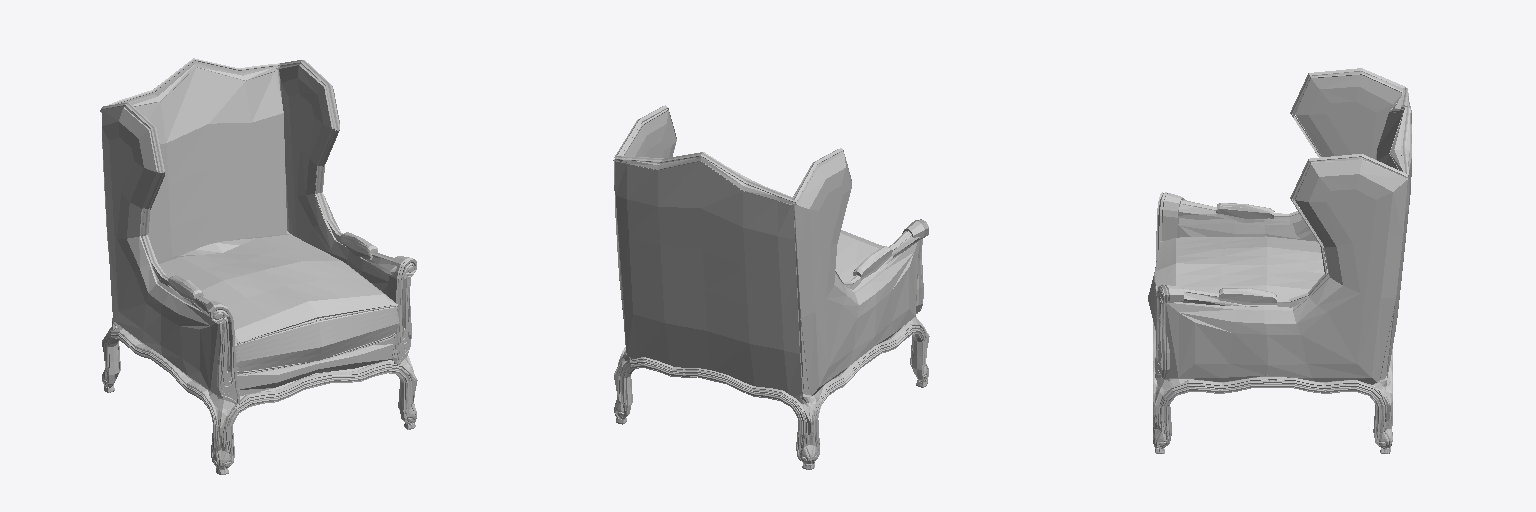
Rendered from Armchair_model (1).obj.
3 renders of one model, left to right at view 1: azimuth 30°, elevation 25°; view 2: azimuth 150°, elevation 25°; view 3: azimuth 270°, elevation 25°, orthographic.
Visible parts, largest first — view 1: podlokietnikiSkora_Plane.003, oparcieSkora_Plane, siedzenieSkora_Cube.004, Nogi_Mesh, wykonczenieDrewno_Plane.004, Drewniany_Ornament_Mesh.006, siedzisko_Cube.003, MalePodlokietniki_Plane.007, ZaslepkiDrewniane_Mesh.002; view 2: oparcieSkora_Plane, podlokietnikiSkora_Plane.003, Nogi_Mesh, wykonczenieDrewno_Plane.004, siedzenieSkora_Cube.004, ZaslepkiDrewniane_Mesh.002, Drewniany_Ornament_Mesh.006, MalePodlokietniki_Plane.007; view 3: podlokietnikiSkora_Plane.003, siedzenieSkora_Cube.004, Nogi_Mesh, wykonczenieDrewno_Plane.004, Drewniany_Ornament_Mesh.006, oparcieSkora_Plane, MalePodlokietniki_Plane.007, ZaslepkiDrewniane_Mesh.002.
Part boxes in pixels (x1,y1,x2,y2): podlokietnikiSkora_Plane.003: (101, 64, 388, 398); oparcieSkora_Plane: (128, 63, 286, 261); siedzenieSkora_Cube.004: (158, 231, 399, 375); Nogi_Mesh: (102, 327, 416, 474); wykonczenieDrewno_Plane.004: (100, 58, 396, 316); Drewniany_Ornament_Mesh.006: (206, 256, 416, 404); siedzisko_Cube.003: (237, 338, 393, 399); MalePodlokietniki_Plane.007: (168, 232, 377, 303); ZaslepkiDrewniane_Mesh.002: (102, 318, 417, 447); oparcieSkora_Plane: (615, 158, 802, 396); podlokietnikiSkora_Plane.003: (613, 109, 919, 395); Nogi_Mesh: (614, 324, 928, 469); wykonczenieDrewno_Plane.004: (614, 105, 921, 289); siedzenieSkora_Cube.004: (835, 230, 882, 281); ZaslepkiDrewniane_Mesh.002: (614, 317, 929, 442); Drewniany_Ornament_Mesh.006: (902, 219, 928, 313); MalePodlokietniki_Plane.007: (853, 246, 892, 281); podlokietnikiSkora_Plane.003: (1165, 74, 1407, 384); siedzenieSkora_Cube.004: (1148, 236, 1327, 329); Nogi_Mesh: (1153, 322, 1392, 453); wykonczenieDrewno_Plane.004: (1178, 68, 1410, 307); Drewniany_Ornament_Mesh.006: (1155, 192, 1184, 379); oparcieSkora_Plane: (1376, 93, 1411, 383); MalePodlokietniki_Plane.007: (1216, 203, 1276, 306); ZaslepkiDrewniane_Mesh.002: (1154, 376, 1391, 426).
Bounding box in the file's own units: 0.7868 × 1.09 × 0.8716.